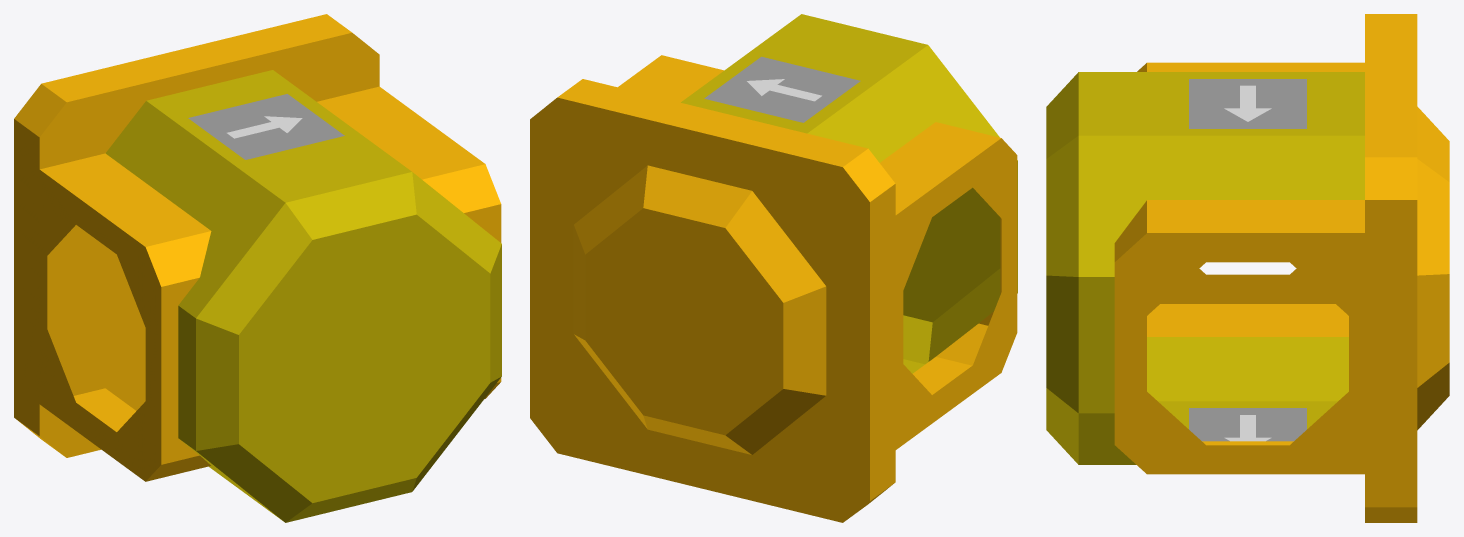
File: fpe_hydraulic_motor.dae
The picture shows the model from 3 angles, left to right: view 1: azimuth 30°, elevation 25°; view 2: azimuth 150°, elevation 25°; view 3: azimuth 270°, elevation 25°; orthographic projection. The views are drawn at different scales.
Parts seen in each view (by area): view 1: hydraulic_motor_small; view 2: hydraulic_motor_small; view 3: hydraulic_motor_small.
Boxes of the visible parts, bbox=[...] form: hydraulic_motor_small: bbox=[14, 14, 501, 522]; hydraulic_motor_small: bbox=[530, 14, 1017, 522]; hydraulic_motor_small: bbox=[1046, 14, 1449, 522].
Bounding box in the file's own units: 0.25 × 0.25 × 0.25.
